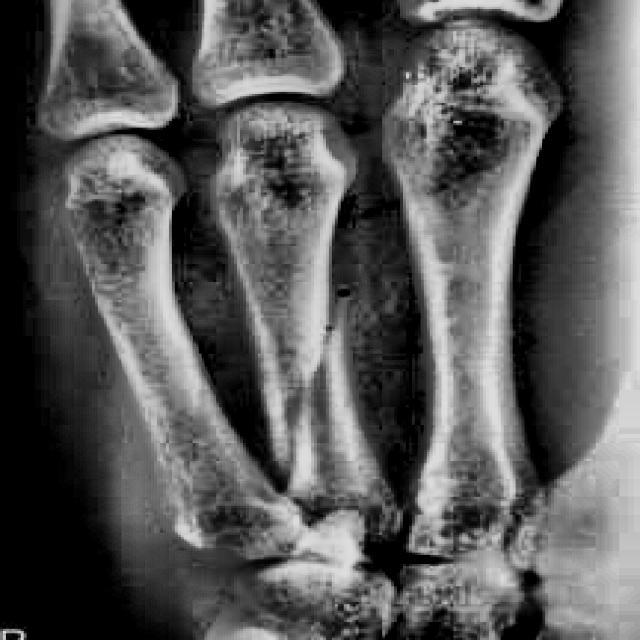fracture: (272, 290, 352, 494)
